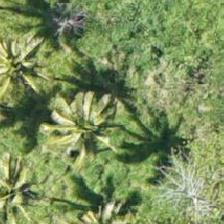coconut_tree: (40, 79, 130, 169), (0, 25, 63, 115), (55, 176, 145, 223), (0, 151, 51, 223)
